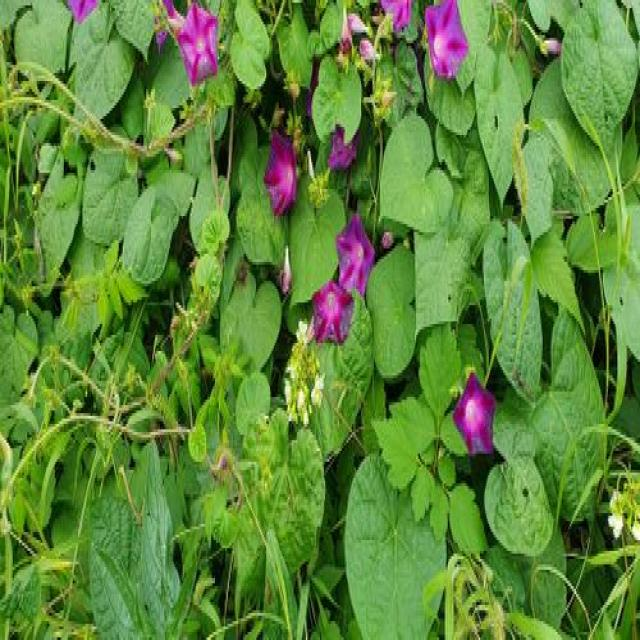ipomoea: (449, 364, 498, 464), (173, 2, 221, 94), (421, 3, 471, 89), (333, 208, 376, 305), (260, 124, 301, 224), (308, 275, 356, 351)
